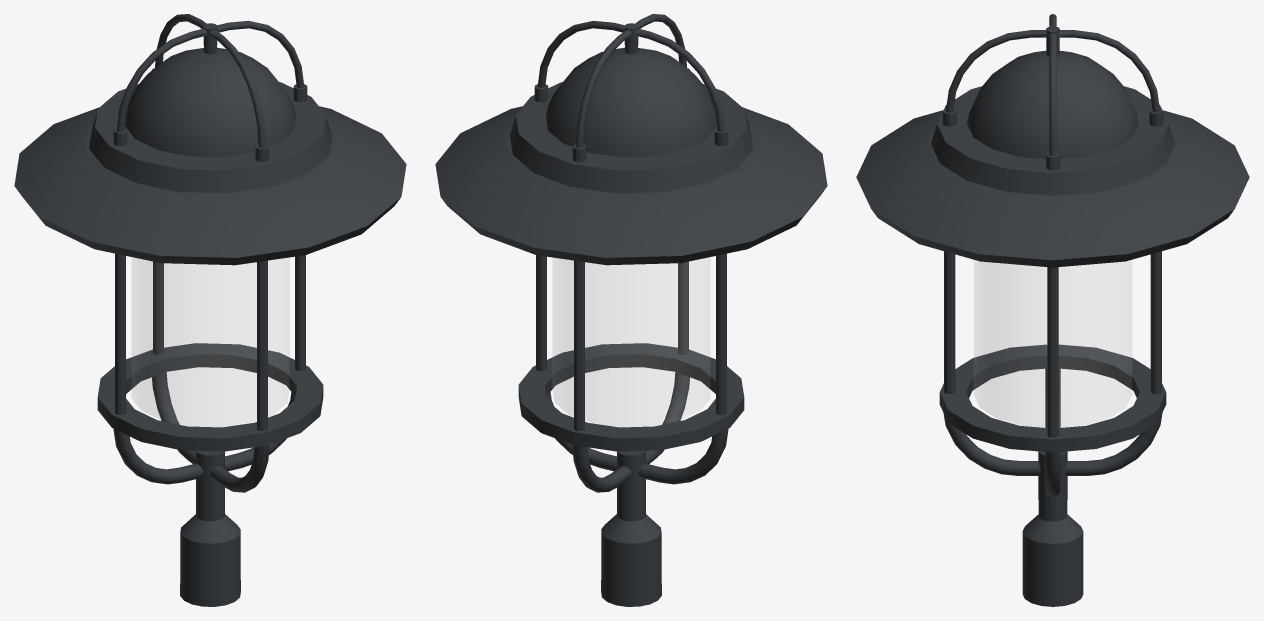
Rendered from Fiete_I.glb.
The picture shows the model from 3 angles, left to right: view 1: azimuth 30°, elevation 25°; view 2: azimuth 150°, elevation 25°; view 3: azimuth 270°, elevation 25°; orthographic projection.
Parts seen in each view (by area): view 1: BezierCurve.007, Glas.001, Cylinder.002, BezierCurve.001, BezierCurve.006; view 2: BezierCurve.007, Glas.001, Cylinder.002, BezierCurve.001, BezierCurve.006; view 3: BezierCurve.007, Glas.001, Cylinder.002, BezierCurve.001, BezierCurve.006.
Part boxes in pixels (bbox=[...]): BezierCurve.007: bbox=[14, 23, 406, 606]; Glas.001: bbox=[132, 257, 288, 426]; Cylinder.002: bbox=[113, 68, 307, 430]; BezierCurve.001: bbox=[113, 372, 295, 492]; BezierCurve.006: bbox=[116, 14, 304, 147]; BezierCurve.007: bbox=[435, 23, 827, 606]; Glas.001: bbox=[553, 257, 709, 426]; Cylinder.002: bbox=[534, 68, 728, 430]; BezierCurve.001: bbox=[546, 372, 728, 492]; BezierCurve.006: bbox=[537, 14, 725, 147]; BezierCurve.007: bbox=[856, 26, 1249, 606]; Glas.001: bbox=[974, 260, 1131, 427]; Cylinder.002: bbox=[942, 108, 1163, 437]; BezierCurve.001: bbox=[943, 368, 1162, 496]; BezierCurve.006: bbox=[946, 14, 1159, 156].
Size of the model in its own units: 0.5706 by 0.9043 by 0.5706.
3 materials, 2 textured.
